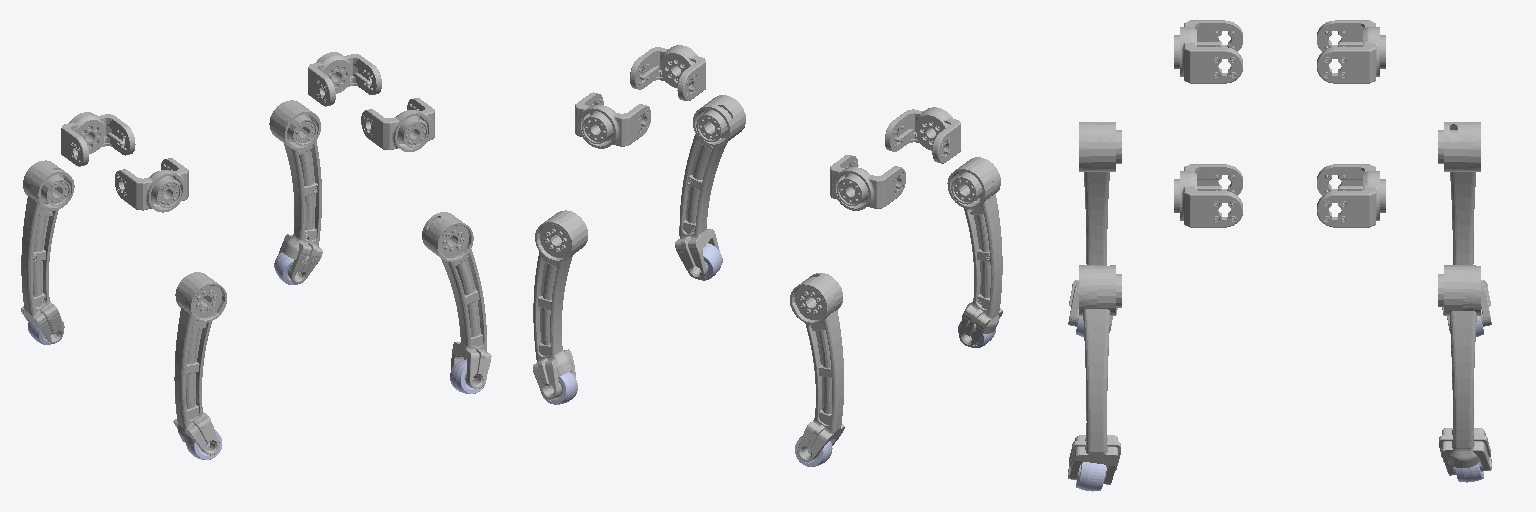
--- Facts derived from the render (not from the file) ---
The picture shows the robot from 3 angles, left to right: view 1: azimuth 30°, elevation 25°; view 2: azimuth 150°, elevation 25°; view 3: azimuth 270°, elevation 25°; orthographic projection.
Robot: metal_head — 19 links, 18 joints (12 revolute, 6 fixed); root link base; default pose: all joints at 0.
Links seen in each view (by area): view 1: Link03_BR, Link03_FL, Link03_BL, Link03_FR, Link01_BL, Link01_BR, Link01_FL, Link01_FR, Link04_FR; view 2: Link03_BR, Link03_BL, Link03_FL, Link03_FR, Link01_BR, Link01_FL, Link01_FR, Link01_BL, Link04_FL; view 3: Link03_FL, Link03_FR, Link03_BR, Link03_BL, Link01_FL, Link01_FR, Link01_BR, Link01_BL, Link04_FR.
Boxes of the visible links, bbox=[...] form: Link03_BR: bbox=[173, 272, 226, 455]; Link03_FL: bbox=[269, 100, 322, 283]; Link03_BL: bbox=[21, 160, 74, 343]; Link03_FR: bbox=[422, 212, 491, 388]; Link01_BL: bbox=[61, 112, 135, 166]; Link01_BR: bbox=[115, 158, 188, 212]; Link01_FL: bbox=[308, 52, 381, 106]; Link01_FR: bbox=[361, 98, 434, 151]; Link04_FR: bbox=[450, 360, 486, 393]; Link03_BR: bbox=[947, 157, 1002, 346]; Link03_BL: bbox=[790, 273, 844, 461]; Link03_FL: bbox=[533, 210, 587, 399]; Link03_FR: bbox=[675, 95, 745, 278]; Link01_BR: bbox=[885, 107, 960, 163]; Link01_FL: bbox=[575, 92, 650, 148]; Link01_FR: bbox=[630, 45, 705, 100]; Link01_BL: bbox=[830, 155, 905, 210]; Link04_FL: bbox=[540, 372, 577, 404]; Link03_FL: bbox=[1438, 265, 1491, 475]; Link03_FR: bbox=[1068, 265, 1121, 484]; Link03_BR: bbox=[1068, 122, 1121, 330]; Link03_BL: bbox=[1438, 122, 1491, 330]; Link01_FL: bbox=[1317, 164, 1385, 227]; Link01_FR: bbox=[1174, 164, 1242, 227]; Link01_BR: bbox=[1174, 20, 1242, 83]; Link01_BL: bbox=[1317, 20, 1385, 83]; Link04_FR: bbox=[1076, 462, 1105, 491].
Size in the robot's own frame: 0.2882 by 0.2865 by 0.2292 metres.
12 mesh visuals loaded from 18 distinct referenced files (12 binary STL); not drawn: 6 (reference not matched to a file when rendering).

URDF robot description (metal_head):
<?xml version="1.0" encoding="utf-8"?>
<!-- This URDF was automatically created by SolidWorks to URDF Exporter! Originally created by Stephen Brawner ([email redacted]) 
     Commit Version: 1.5.1-0-g916b5db  Build Version: 1.5.7152.31018
     For more information, please see http://wiki.ros.org/sw_urdf_exporter -->
<robot
  name="metal_head">
  <link
    name="base">
    <visual>
      <origin
        xyz="0 0 0"
        rpy="0 0 0" />
      <geometry>
        <mesh
          filename="package://metal_head_v1m1_m4_with_arm_fixed_4/meshes/base_link.STL" />
      </geometry>
      <material
        name="">
        <color
          rgba="0.752941176470588 0.752941176470588 0.752941176470588 1" />
      </material>
    </visual>
    <collision>
      <origin
        xyz="0 0 0"
        rpy="0 0 0" />
      <geometry>
        <mesh
          filename="package://metal_head_v1m1_m4_with_arm_fixed_4/meshes/base_link.STL" />
      </geometry>
    </collision>
  </link>
  <joint name="base_to_base_inertia" type="fixed">
    <parent link="base"/>
    <child link="base_inertia"/>
    <origin rpy="0 0 0" xyz="0 0 0"/>
  </joint>

   <link name="base_inertia">
     <inertial>
      <origin
        xyz="0.00272280586503986 -3.67175782035141E-05 0.00791457636554705"
        rpy="0 0 0" />
      <mass
        value="1.49829855979102" />
      <inertia
        ixx="0.00128271766498655"
        ixy="-6.9217495080254E-06"
        ixz="2.80049005447544E-06"
        iyy="0.00559868305367329"
        iyz="-4.4471753001719E-08"
        izz="0.00640931346181532" />
    </inertial>
  </link>


  <link
    name="Camera_link">
    <inertial>
      <origin
        xyz="-0.00390786396615492 0.0131822072313309 2.87190157332445E-06"
        rpy="0 0 0" />
      <mass
        value="0.074981964325194" />
      <inertia
        ixx="4.62881325791234E-05"
        ixy="8.85804419872042E-08"
        ixz="-2.55510964994389E-08"
        iyy="4.14640234530239E-06"
        iyz="-1.57303416653035E-08"
        izz="4.37028600649143E-05" />
    </inertial>
    <visual>
      <origin
        xyz="0 0 0"
        rpy="0 0 0" />
      <geometry>
        <mesh
          filename="package://metal_head_v1m1_m4_with_arm_fixed_4/meshes/Camera_link.STL" />
      </geometry>
      <material
        name="">
        <color
          rgba="0.752941176470588 0.752941176470588 0.752941176470588 1" />
      </material>
    </visual>
    <collision>
      <origin
        xyz="0 0 0"
        rpy="0 0 0" />
      <geometry>
        <mesh
          filename="package://metal_head_v1m1_m4_with_arm_fixed_4/meshes/Camera_link.STL" />
      </geometry>
    </collision>
  </link>
  <joint
    name="Depth_camera"
    type="fixed">
    <origin
      xyz="0.17888518 -0.0114999864649402 0.00574999135024001"
      rpy="0 0 0" />
    <parent
      link="base" />
    <child
      link="Camera_link" />
    <axis
      xyz="0 0 0" />
  </joint>
  <link
    name="Link01_FL">
    <inertial>
      <origin
        xyz="1.95829968144268E-07 0.0168303173296565 5.71467700205966E-08"
        rpy="0 0 0" />
      <mass
        value="0.0245744533216826" />
      <inertia
        ixx="3.29879549918277E-06"
        ixy="6.11367384660365E-11"
        ixz="-1.60951220261676E-11"
        iyy="6.52571602481866E-06"
        iyz="1.36529043140221E-11"
        izz="7.35828428979242E-06" />
    </inertial>
    <visual>
      <origin
        xyz="0 0 0"
        rpy="0 0 0" />
      <geometry>
        <mesh
          filename="package://metal_head_v1m1_m4_with_arm_fixed_4/meshes/Link01_FL.STL" />
      </geometry>
      <material
        name="">
        <color
          rgba="0.752941176470588 0.752941176470588 0.752941176470588 1" />
      </material>
    </visual>
    <collision>
      <origin
        xyz="0 0 0"
        rpy="0 0 0" />
      <geometry>
        <mesh
          filename="package://metal_head_v1m1_m4_with_arm_fixed_4/meshes/Link01_FL.STL" />
      </geometry>
    </collision>
  </link>
  <joint
    name="Joint01_FL"
    type="revolute">
    <origin
      xyz="0.115 0.0372500000000001 0"
      rpy="0 0 0" />
    <parent
      link="base" />
    <child
      link="Link01_FL" />
    <axis
      xyz="1 0 0" />
    <limit command_effort="80.0" current="32.0" effort="80.0" gear_velocity="8.5" lower="-9.42477796076938" upper="9.42477796076938" velocity="8.5"/>
    <dynamics damping="0.0" friction="0.0"/>
  
  </joint>
  <link
    name="Link02_FL">
    <inertial>
      <origin
        xyz="-0.000437125798171623 -1.88464421716772E-05 -0.0352542209493059"
        rpy="0 0 0" />
      <mass
        value="0.220405984584206" />
      <inertia
        ixx="0.000106987697500263"
        ixy="1.83885443973576E-08"
        ixz="2.81334858636883E-09"
        iyy="0.000108516929863687"
        iyz="-9.92554160155792E-07"
        izz="3.71662375644544E-05" />
    </inertial>
    <visual>
      <origin
        xyz="0 0 0"
        rpy="0 0 0" />
      <geometry>
        <mesh
          filename="package://metal_head_v1m1_m4_with_arm_fixed_4/meshes/Link02_FL.STL" />
      </geometry>
      <material
        name="">
        <color
          rgba="0.752941176470588 0.752941176470588 0.752941176470588 1" />
      </material>
    </visual>
    <collision>
      <origin
        xyz="0 0 0"
        rpy="0 0 0" />
      <geometry>
        <mesh
          filename="package://metal_head_v1m1_m4_with_arm_fixed_4/meshes/Link02_FL.STL" />
      </geometry>
    </collision>
  </link>
  <joint
    name="Joint02_FL"
    type="revolute">
    <origin
      xyz="0 0.0519999999999999 0"
      rpy="0 0 0" />
    <parent
      link="Link01_FL" />
    <child
      link="Link02_FL" />
    <axis
      xyz="0 1 0" />
    <limit command_effort="80.0" current="32.0" effort="80.0" gear_velocity="8.5" lower="-9.42477796076938" upper="9.42477796076938" velocity="8.5"/>
    <dynamics damping="0.0" friction="0.0"/>
  
  </joint>
  <link
    name="Link03_FL">
    <inertial>
      <origin
        xyz="0.005552762266078 -0.000220584171939625 -0.0443220523799636"
        rpy="0 0 0" />
      <mass
        value="0.0743342321888104" />
      <inertia
        ixx="0.000130019971008441"
        ixy="-2.66795558083886E-07"
        ixz="8.31939309263861E-06"
        iyy="0.000133743813949422"
        iyz="3.41075866410913E-06"
        izz="7.65491354095075E-06" />
    </inertial>
    <visual>
      <origin
        xyz="0 0 0"
        rpy="0 0 0" />
      <geometry>
        <mesh
          filename="package://metal_head_v1m1_m4_with_arm_fixed_4/meshes/Link03_FL.STL" />
      </geometry>
      <material
        name="">
        <color
          rgba="0.752941176470588 0.752941176470588 0.752941176470588 1" />
      </material>
    </visual>
    <collision>
      <origin
        xyz="0 0 0"
        rpy="0 0 0" />
      <geometry>
        <mesh
          filename="package://metal_head_v1m1_m4_with_arm_fixed_4/meshes/Link03_FL.STL" />
      </geometry>
    </collision>
  </link>
  <joint
    name="Joint03_FL"
    type="revolute">
    <origin
      xyz="0 0.034500000000004 -0.0706559599494836"
      rpy="0 0 0" />
    <parent
      link="Link02_FL" />
    <child
      link="Link03_FL" />
    <axis
      xyz="0 1 0" />
    <limit command_effort="80.0" current="32.0" effort="80.0" gear_velocity="8.5" lower="-9.42477796076938" upper="9.42477796076938" velocity="8.5"/>
    <dynamics damping="0.0" friction="0.0"/>
  
  </joint>
  <link
    name="Link04_FL">
    <inertial>
      <origin
        xyz="0.00545320862511998 -0.00258394389565503 0.0121232300830035"
        rpy="0 0 0" />
      <mass
        value="0.00626589308588588" />
      <inertia
        ixx="4.82096951052719E-07"
        ixy="1.75274726317129E-08"
        ixz="1.33162993512649E-09"
        iyy="6.96561231884386E-07"
        iyz="3.89659788743316E-08"
        izz="4.84458328290788E-07" />
    </inertial>
    <visual>
      <origin
        xyz="0 0 0"
        rpy="0 0 0" />
      <geometry>
        <mesh
          filename="package://metal_head_v1m1_m4_with_arm_fixed_4/meshes/Link04_FL.STL" />
      </geometry>
      <material
        name="">
        <color
          rgba="0.792156862745098 0.819607843137255 0.933333333333333 1" />
      </material>
    </visual>
    <collision name="spherical_collision">
      <origin xyz="0.008 0 0.015" rpy="0 0 0"/>
      <geometry>
        <sphere radius="0.018"/>
      </geometry>
    </collision>
    <!-- <collision>
      <origin
        xyz="0 0 0"
        rpy="0 0 0" />
      <geometry>
        <mesh
          filename="package://metal_head_v1m1_m4_with_arm_fixed_4/meshes/Link04_FL.STL" />
      </geometry>
    </collision> -->
  </link>
  <joint
    name="Joint04_FL"
    type="fixed">
    <origin
      xyz="-0.00552489336542444 0.00649625121503115 -0.139873018931591"
      rpy="0 0 0" />
    <parent
      link="Link03_FL" />
    <child
      link="Link04_FL" />
    <axis
      xyz="0 0 0" />
  </joint>
  <link
    name="Link01_FR">
    <inertial>
      <origin
        xyz="-1.95829965826677E-07 -0.0168303173296563 5.7146766442993E-08"
        rpy="0 0 0" />
      <mass
        value="0.0245744533216827" />
      <inertia
        ixx="3.29879549918277E-06"
        ixy="6.11367384613006E-11"
        ixz="1.60951220678221E-11"
        iyy="6.52571602481866E-06"
        iyz="-1.36529043147557E-11"
        izz="7.35828428979242E-06" />
    </inertial>
    <visual>
      <origin
        xyz="0 0 0"
        rpy="0 0 0" />
      <geometry>
        <mesh
          filename="package://metal_head_v1m1_m4_with_arm_fixed_4/meshes/Link01_FR.STL" />
      </geometry>
      <material
        name="">
        <color
          rgba="0.752941176470588 0.752941176470588 0.752941176470588 1" />
      </material>
    </visual>
    <collision>
      <origin
        xyz="0 0 0"
        rpy="0 0 0" />
      <geometry>
        <mesh
          filename="package://metal_head_v1m1_m4_with_arm_fixed_4/meshes/Link01_FR.STL" />
      </geometry>
    </collision>
  </link>
  <joint
    name="Joint01_FR"
    type="revolute">
    <origin
      xyz="0.115 -0.03725 0"
      rpy="0 0 0" />
    <parent
      link="base" />
    <child
      link="Link01_FR" />
    <axis
      xyz="1 0 0" />
    <limit command_effort="80.0" current="32.0" effort="80.0" gear_velocity="8.5" lower="-9.42477796076938" upper="9.42477796076938" velocity="8.5"/>
    <dynamics damping="0.0" friction="0.0"/>
  
  </joint>
  <link
    name="Link02_FR">
    <inertial>
      <origin
        xyz="-0.000436940324672896 -8.93864434264868E-06 -0.0352457561569636"
        rpy="0 0 0" />
      <mass
        value="0.220441311521433" />
      <inertia
        ixx="0.000107038942656919"
        ixy="-1.61303915212815E-08"
        ixz="3.60818250187289E-10"
        iyy="0.0001085751301116"
        iyz="9.93977122714184E-07"
        izz="3.71703603865106E-05" />
    </inertial>
    <visual>
      <origin
        xyz="0 0 0"
        rpy="0 0 0" />
      <geometry>
        <mesh
          filename="package://metal_head_v1m1_m4_with_arm_fixed_4/meshes/Link02_FR.STL" />
      </geometry>
      <material
        name="">
        <color
          rgba="0.752941176470588 0.752941176470588 0.752941176470588 1" />
      </material>
    </visual>
    <collision>
      <origin
        xyz="0 0 0"
        rpy="0 0 0" />
      <geometry>
        <mesh
          filename="package://metal_head_v1m1_m4_with_arm_fixed_4/meshes/Link02_FR.STL" />
      </geometry>
    </collision>
  </link>
  <joint
    name="Joint02_FR"
    type="revolute">
    <origin
      xyz="0 -0.0519999999999989 0"
      rpy="0 0 0" />
    <parent
      link="Link01_FR" />
    <child
      link="Link02_FR" />
    <axis
      xyz="0 1 0" />
    <limit command_effort="80.0" current="32.0" effort="80.0" gear_velocity="8.5" lower="-9.42477796076938" upper="9.42477796076938" velocity="8.5"/>
    <dynamics damping="0.0" friction="0.0"/>
  
  </joint>
  <link
    name="Link03_FR">
    <inertial>
      <origin
        xyz="0.0103381366618193 0.000668290462673374 -0.0420847223107546"
        rpy="0 0 0" />
      <mass
        value="0.0451347487196663" />
      <inertia
        ixx="7.72317229165012E-05"
        ixy="6.79211659418481E-07"
        ixz="1.33364214360967E-05"
        iyy="8.0840973666499E-05"
        iyz="-3.2430428375675E-06"
        izz="7.01633087299087E-06" />
    </inertial>
    <visual>
      <origin
        xyz="0 0 0"
        rpy="0 0 0" />
      <geometry>
        <mesh
          filename="package://metal_head_v1m1_m4_with_arm_fixed_4/meshes/Link03_FR.STL" />
      </geometry>
      <material
        name="">
        <color
          rgba="0.752941176470588 0.752941176470588 0.752941176470588 1" />
      </material>
    </visual>
    <collision>
      <origin
        xyz="0 0 0"
        rpy="0 0 0" />
      <geometry>
        <mesh
          filename="package://metal_head_v1m1_m4_with_arm_fixed_4/meshes/Link03_FR.STL" />
      </geometry>
    </collision>
  </link>
  <joint
    name="Joint03_FR"
    type="revolute">
    <origin
      xyz="0 -0.0345000000000018 -0.0704999999998448"
      rpy="0 0 0" />
    <parent
      link="Link02_FR" />
    <child
      link="Link03_FR" />
    <axis
      xyz="0 1 0" />
    <limit command_effort="80.0" current="32.0" effort="80.0" gear_velocity="8.5" lower="-9.42477796076938" upper="9.42477796076938" velocity="8.5"/>
    <dynamics damping="0.0" friction="0.0"/>
  
  </joint>
  <link
    name="Link04_FR">
    <inertial>
      <origin
        xyz="0.00382764288921236 0.00258394378286642 0.0127302531714441"
        rpy="0 0 0" />
      <mass
        value="0.006265893042007" />
      <inertia
        ixx="4.81793088091217E-07"
        ixy="-1.23026467172338E-08"
        ixz="9.81475379879534E-10"
        iyy="6.96561256517696E-07"
        iyz="-4.09170416976371E-08"
        izz="4.84762211731799E-07" />
    </inertial>
    <visual>
      <origin
        xyz="0 0 0"
        rpy="0 0 0" />
      <geometry>
        <mesh
          filename="package://metal_head_v1m1_m4_with_arm_fixed_4/meshes/Link04_FR.STL" />
      </geometry>
      <material
        name="">
        <color
          rgba="0.792156862745098 0.819607843137255 0.933333333333333 1" />
      </material>
    </visual>
    <collision name="spherical_collision">
      <origin xyz="0.008 0 0.015" rpy="0 0 0"/>
      <geometry>
        <sphere radius="0.018"/>
      </geometry>
    </collision>
    <!-- <collision>
      <origin
        xyz="0 0 0"
        rpy="0 0 0" />
      <geometry>
        <mesh
          filename="package://metal_head_v1m1_m4_with_arm_fixed_4/meshes/Link04_FR.STL" />
      </geometry>
    </collision> -->
  </link>
  <joint
    name="Joint04_FR"
    type="fixed">
    <origin
      xyz="0.0127616066486203 -0.00649625121503301 -0.139555655049002"
      rpy="0 0 0" />
    <parent
      link="Link03_FR" />
    <child
      link="Link04_FR" />
    <axis
      xyz="0 0 0" />
  </joint>
  <link
    name="Link01_BL">
    <inertial>
      <origin
        xyz="1.95829969171224E-07 0.0168303173296564 5.71467728110966E-08"
        rpy="0 0 0" />
      <mass
        value="0.0245744533216826" />
      <inertia
        ixx="3.29879549918276E-06"
        ixy="6.11367384641536E-11"
        ixz="-1.60951219817188E-11"
        iyy="6.52571602481865E-06"
        iyz="1.36529043145388E-11"
        izz="7.35828428979241E-06" />
    </inertial>
    <visual>
      <origin
        xyz="0 0 0"
        rpy="0 0 0" />
      <geometry>
        <mesh
          filename="package://metal_head_v1m1_m4_with_arm_fixed_4/meshes/Link01_BL.STL" />
      </geometry>
      <material
        name="">
        <color
          rgba="0.752941176470588 0.752941176470588 0.752941176470588 1" />
      </material>
    </visual>
    <collision>
      <origin
        xyz="0 0 0"
        rpy="0 0 0" />
      <geometry>
        <mesh
          filename="package://metal_head_v1m1_m4_with_arm_fixed_4/meshes/Link01_BL.STL" />
      </geometry>
    </collision>
  </link>
  <joint
    name="Joint01_BL"
    type="revolute">
    <origin
      xyz="-0.115 0.03725 0"
      rpy="0 0 0" />
    <parent
      link="base" />
    <child
      link="Link01_BL" />
    <axis
      xyz="1 0 0" />
    <limit command_effort="80.0" current="32.0" effort="80.0" gear_velocity="8.5" lower="-9.42477796076938" upper="9.42477796076938" velocity="8.5"/>
    <dynamics damping="0.0" friction="0.0"/>
  
  </joint>
  <link
    name="Link02_BL">
    <inertial>
      <origin
        xyz="0.000436940324640728 8.93864434040048E-06 -0.0352457561571844"
        rpy="0 0 0" />
      <mass
        value="0.220441311521433" />
      <inertia
        ixx="0.000107038942656919"
        ixy="-1.61303915222247E-08"
        ixz="-3.60818317056724E-10"
        iyy="0.000108575130111599"
        iyz="-9.93977122714139E-07"
        izz="3.71703603865106E-05" />
    </inertial>
    <visual>
      <origin
        xyz="0 0 0"
        rpy="0 0 0" />
      <geometry>
        <mesh
          filename="package://metal_head_v1m1_m4_with_arm_fixed_4/meshes/Link02_BL.STL" />
      </geometry>
      <material
        name="">
        <color
          rgba="0.752941176470588 0.752941176470588 0.752941176470588 1" />
      </material>
    </visual>
    <collision>
      <origin
        xyz="0 0 0"
        rpy="0 0 0" />
      <geometry>
        <mesh
          filename="package://metal_head_v1m1_m4_with_arm_fixed_4/meshes/Link02_BL.STL" />
      </geometry>
    </collision>
  </link>
  <joint
    name="Joint02_BL"
    type="revolute">
    <origin
      xyz="0 0.0520000000000011 0"
      rpy="0 0 0" />
    <parent
      link="Link01_BL" />
    <child
      link="Link02_BL" />
    <axis
      xyz="0 1 0" />
    <limit command_effort="80.0" current="32.0" effort="80.0" gear_velocity="8.5" lower="-9.42477796076938" upper="9.42477796076938" velocity="8.5"/>
    <dynamics damping="0.0" friction="0.0"/>
  
  </joint>
  <link
    name="Link03_BL">
    <inertial>
      <origin
        xyz="-0.00476837395887103 0.010431579542845 -0.0409735883765803"
        rpy="0 0 0" />
      <mass
        value="0.045135822194835" />
      <inertia
        ixx="7.94856986323855E-05"
        ixy="2.50996535304516E-07"
        ixz="-3.81592182496782E-06"
        iyy="8.08415522990731E-05"
        iyz="3.30387213365292E-06"
        izz="4.76293666612197E-06" />
    </inertial>
    <visual>
      <origin
        xyz="0 0 0"
        rpy="0 0 0" />
      <geometry>
        <mesh
          filename="package://metal_head_v1m1_m4_with_arm_fixed_4/meshes/Link03_BL.STL" />
      </geometry>
      <material
        name="">
        <color
          rgba="0.752941176470588 0.752941176470588 0.752941176470588 1" />
      </material>
    </visual>
    <collision>
      <origin
        xyz="0 0 0"
        rpy="0 0 0" />
      <geometry>
        <mesh
          filename="package://metal_head_v1m1_m4_with_arm_fixed_4/meshes/Link03_BL.STL" />
      </geometry>
    </collision>
  </link>
  <joint
    name="Joint03_BL"
    type="revolute">
    <origin
      xyz="0 0.0234 -0.0726000000000638"
      rpy="0 0 0" />
    <parent
      link="Link02_BL" />
    <child
      link="Link03_BL" />
    <axis
      xyz="0 1 0" />
    <limit command_effort="80.0" current="32.0" effort="80.0" gear_velocity="8.5" lower="-9.42477796076938" upper="9.42477796076938" velocity="8.5"/>
    <dynamics damping="0.0" friction="0.0"/>
  
  </joint>
  <link
    name="Link04_BL">
    <inertial>
      <origin
        xyz="-0.00545320781521509 -0.00258394358362757 0.0121232286738243"
        rpy="0 0 0" />
      <mass
        value="0.00626589208526502" />
      <inertia
        ixx="4.82096870687528E-07"
        ixy="-1.75274631279306E-08"
        ixz="-1.33167693642831E-09"
        iyy="6.96561126415961E-07"
        iyz="3.89659596987123E-08"
        izz="4.84458297197818E-07" />
    </inertial>
    <visual>
      <origin
        xyz="0 0 0"
        rpy="0 0 0" />
      <geometry>
        <mesh
          filename="package://metal_head_v1m1_m4_with_arm_fixed_4/meshes/Link04_BL.STL" />
      </geometry>
      <material
        name="">
        <color
          rgba="0.792156862745098 0.819607843137255 0.933333333333333 1" />
      </material>
    </visual>
   <collision name="spherical_collision">
      <origin xyz="-0.008 0 0.015" rpy="0 0 0"/>
      <geometry>
        <sphere radius="0.018"/>
      </geometry>
    </collision>
    <!-- <collision>
      <origin
        xyz="0 0 0"
        rpy="0 0 0" />
      <geometry>
        <mesh
          filename="package://metal_head_v1m1_m4_with_arm_fixed_4/meshes/Link04_BL.STL" />
      </geometry>
    </collision> -->
  </link>
  <joint
    name="Joint04_BL"
    type="fixed">
    <origin
      xyz="0.0055148060583165 0.0175914713205365 -0.137906553090082"
      rpy="0 0 0" />
    <parent
      link="Link03_BL" />
    <child
      link="Link04_BL" />
    <axis
      xyz="0 0 0" />
  </joint>
  <link
    name="Link01_BR">
    <inertial>
      <origin
        xyz="-1.95829968019368E-07 -0.0168303173296567 5.71467716131563E-08"
        rpy="0 0 0" />
      <mass
        value="0.0245744533216826" />
      <inertia
        ixx="3.29879549918277E-06"
        ixy="6.11367384623478E-11"
        ixz="1.60951220251218E-11"
        iyy="6.52571602481865E-06"
        iyz="-1.36529043145432E-11"
        izz="7.35828428979241E-06" />
    </inertial>
    <visual>
      <origin
        xyz="0 0 0"
        rpy="0 0 0" />
      <geometry>
        <mesh
          filename="package://metal_head_v1m1_m4_with_arm_fixed_4/meshes/Link01_BR.STL" />
      </geometry>
      <material
        name="">
        <color
          rgba="0.752941176470588 0.752941176470588 0.752941176470588 1" />
      </material>
    </visual>
    <collision>
      <origin
        xyz="0 0 0"
        rpy="0 0 0" />
      <geometry>
        <mesh
          filename="package://metal_head_v1m1_m4_with_arm_fixed_4/meshes/Link01_BR.STL" />
      </geometry>
    </collision>
  </link>
  <joint
    name="Joint01_BR"
    type="revolute">
    <origin
      xyz="-0.115 -0.0372499999999998 0"
      rpy="0 0 0" />
    <parent
      link="base" />
    <child
      link="Link01_BR" />
    <axis
      xyz="1 0 0" />
    <limit command_effort="80.0" current="32.0" effort="80.0" gear_velocity="8.5" lower="-9.42477796076938" upper="9.42477796076938" velocity="8.5"/>
    <dynamics damping="0.0" friction="0.0"/>
  
  </joint>
  <link
    name="Link02_BR">
    <inertial>
      <origin
        xyz="0.0004371257471876 1.88464423718643E-05 -0.0352542210576594"
        rpy="0 0 0" />
      <mass
        value="0.220405984589035" />
      <inertia
        ixx="0.000106987697508889"
        ixy="1.83885445885776E-08"
        ixz="-2.81335197671822E-09"
        iyy="0.00010851692987361"
        iyz="9.92554160635395E-07"
        izz="3.71662375657912E-05" />
    </inertial>
    <visual>
      <origin
        xyz="0 0 0"
        rpy="0 0 0" />
      <geometry>
        <mesh
          filename="package://metal_head_v1m1_m4_with_arm_fixed_4/meshes/Link02_BR.STL" />
      </geometry>
      <material
        name="">
        <color
          rgba="0.752941176470588 0.752941176470588 0.752941176470588 1" />
      </material>
    </visual>
    <collision>
      <origin
        xyz="0 0 0"
        rpy="0 0 0" />
      <geometry>
        <mesh
          filename="package://metal_head_v1m1_m4_with_arm_fixed_4/meshes/Link02_BR.STL" />
      </geometry>
    </collision>
  </link>
  <joint
    name="Joint02_BR"
    type="revolute">
    <origin
      xyz="0 -0.0520000000000002 0"
      rpy="0 0 0" />
    <parent
      link="Link01_BR" />
    <child
      link="Link02_BR" />
    <axis
      xyz="0 1 0" />
    <limit command_effort="80.0" current="32.0" effort="80.0" gear_velocity="8.5" lower="-9.42477796076938" upper="9.42477796076938" velocity="8.5"/>
    <dynamics damping="0.0" friction="0.0"/>
  
  </joint>
  <link
    name="Link03_BR">
    <inertial>
      <origin
        xyz="-0.00555276219513652 -0.0108794158181763 -0.0423780125079394"
        rpy="0 0 0" />
      <mass
        value="0.0743342319864427" />
      <inertia
        ixx="0.000130019970355013"
        ixy="-2.66795552396677E-07"
        ixz="-8.31939290119869E-06"
        iyy="0.00013374381325886"
        iyz="-3.41075865279684E-06"
        izz="7.65491350266798E-06" />
    </inertial>
    <visual>
      <origin
        xyz="0 0 0"
        rpy="0 0 0" />
      <geometry>
        <mesh
          filename="package://metal_head_v1m1_m4_with_arm_fixed_4/meshes/Link03_BR.STL" />
      </geometry>
      <material
        name="">
        <color
          rgba="0.752941176470588 0.752941176470588 0.752941176470588 1" />
      </material>
    </visual>
    <collision>
      <origin
        xyz="0 0 0"
        rpy="0 0 0" />
      <geometry>
        <mesh
          filename="package://metal_head_v1m1_m4_with_arm_fixed_4/meshes/Link03_BR.STL" />
      </geometry>
    </collision>
  </link>
  <joint
    name="Joint03_BR"
    type="revolute">
    <origin
      xyz="0 -0.0234000000000017 -0.0725999997976657"
      rpy="0 0 0" />
    <parent
      link="Link02_BR" />
    <child
      link="Link03_BR" />
    <axis
      xyz="0 1 0" />
    <limit command_effort="80.0" current="32.0" effort="80.0" gear_velocity="8.5" lower="-9.42477796076938" upper="9.42477796076938" velocity="8.5"/>
    <dynamics damping="0.0" friction="0.0"/>
  
  </joint>
  <link
    name="Link04_BR">
    <inertial>
      <origin
        xyz="-0.00545320799740487 0.00258394355559921 0.0121232290815788"
        rpy="0 0 0" />
      <mass
        value="0.00626589229343858" />
      <inertia
        ixx="4.82096902235181E-07"
        ixy="1.75274625794621E-08"
        ixz="-1.33166195173896E-09"
        iyy="6.96561165272122E-07"
        iyz="-3.89659613619931E-08"
        izz="4.84458303414193E-07" />
    </inertial>
    <visual>
      <origin
        xyz="0 0 0"
        rpy="0 0 0" />
      <geometry>
        <mesh
          filename="package://metal_head_v1m1_m4_with_arm_fixed_4/meshes/Link04_BR.STL" />
      </geometry>
      <material
        name="">
        <color
          rgba="0.792156862745098 0.819607843137255 0.933333333333333 1" />
      </material>
    </visual>

   <collision name="spherical_collision">
      <origin xyz="-0.008 0 0.015" rpy="0 0 0"/>
      <geometry>
        <sphere radius="0.018"/>
      </geometry>
    </collision>

    <!-- <collision>
      <origin
        xyz="0 0 0"
        rpy="0 0 0" />
      <geometry>
        <mesh
          filename="package://metal_head_v1m1_m4_with_arm_fixed_4/meshes/Link04_BR.STL" />
      </geometry>
    </collision> -->
  </link>
  <joint
    name="Joint04_BR"
    type="fixed">
    <origin
      xyz="0.00552489364269197 -0.017596251215033 -0.137928979181456"
      rpy="0 0 0" />
    <parent
      link="Link03_BR" />
    <child
      link="Link04_BR" />
    <axis
      xyz="0 0 0" />
  </joint>
  <!-- <link
    name="Arm_Link">
    <inertial>
      <origin
        xyz="-0.0312388766645831 0.016334546024769 0.132445123897846"
        rpy="0 0 0" />
      <mass
        value="0.345663542816253" />
      <inertia
        ixx="0.00211268127820838"
        ixy="3.82481511940307E-05"
        ixz="0.000211874890596984"
        iyy="0.00341263996126643"
        iyz="0.000130949260282667"
        izz="0.00137516313571848" />
    </inertial>
    <visual>
      <origin
        xyz="0 0 0"
        rpy="0 0 0" />
      <geometry>
        <mesh
          filename="package://metal_head_v1m1_m4_with_arm_fixed_4/meshes/Arm_Link.STL" />
      </geometry>
      <material
        name="">
        <color
          rgba="0.698039215686274 0.698039215686274 0.698039215686274 1" />
      </material>
    </visual>
    <collision>
      <origin
        xyz="0 0 0"
        rpy="0 0 0" />
      <geometry>
        <mesh
          filename="package://metal_head_v1m1_m4_with_arm_fixed_4/meshes/Arm_Link.STL" />
      </geometry>
    </collision>
  </link>
  <joint
    name="Joint_01_arm"
    type="fixed">
    <origin
      xyz="0.078561 -0.02075 0.076463"
      rpy="0 0 0" />
    <parent
      link="base" />
    <child
      link="Arm_Link" />
    <axis
      xyz="0 0 0" />
  </joint> -->
</robot>
